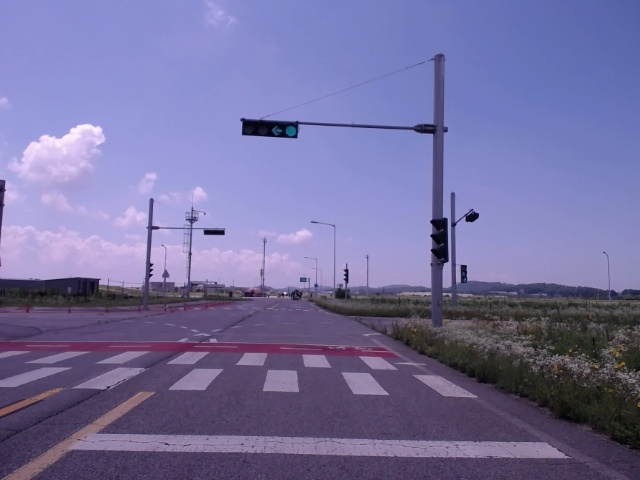all_green_4: (252, 119, 297, 139)
